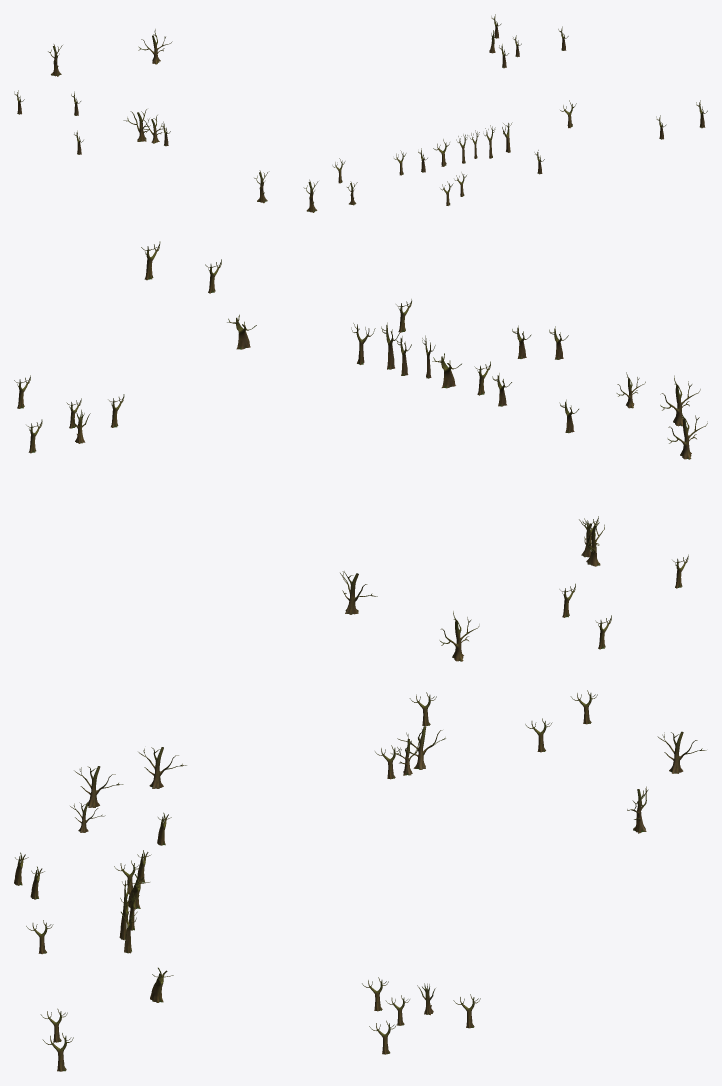
File: shuganfenzu_01.fbx
The picture shows the model from 3 angles, top to bottom: view 1: azimuth 30°, elevation 25°; view 2: azimuth 150°, elevation 25°; view 3: azimuth 270°, elevation 25°; orthographic projection. The views are drawn at different scales.
Parts seen in each view (by area): view 1: shugan_02__20__1; view 2: shugan_02__20__1; view 3: shugan_02__20__1.
Part boxes in pixels (x1,y1,x2,y2): shugan_02__20__1: (14, 14, 707, 212); shugan_02__20__1: (14, 241, 707, 661); shugan_02__20__1: (14, 690, 706, 1071).
Bounding box in the file's own units: 19242 × 1152 × 16019.
